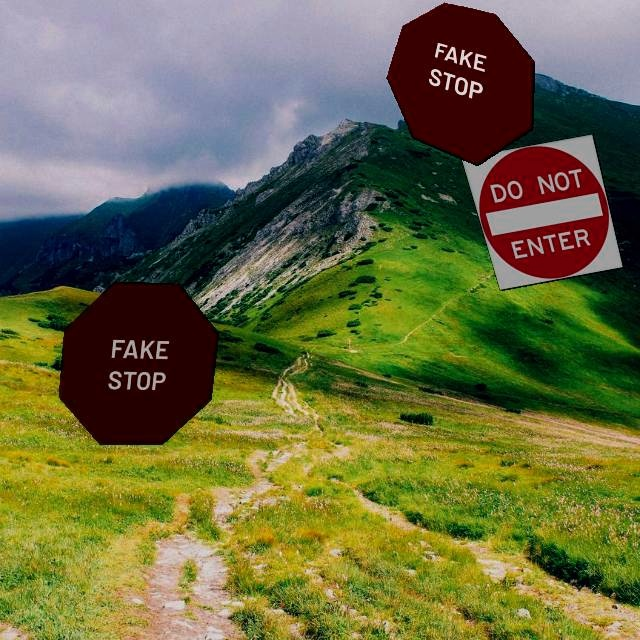DO_NOT_ENTER: (460, 133, 624, 291)
FAKE_STOP: (58, 281, 219, 445), (386, 2, 535, 166)
